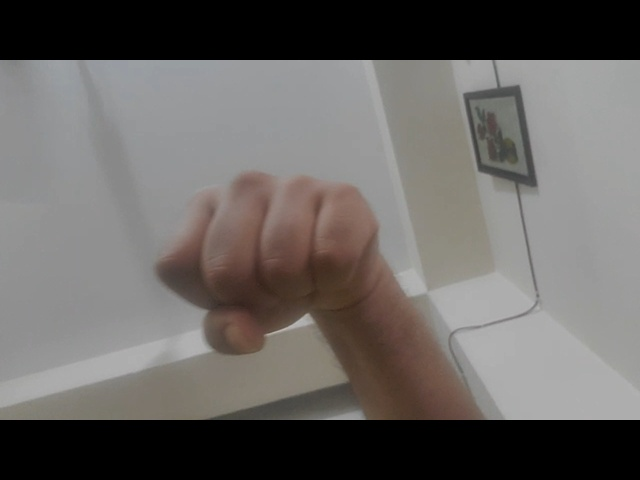Yes: (125, 161, 398, 362)
